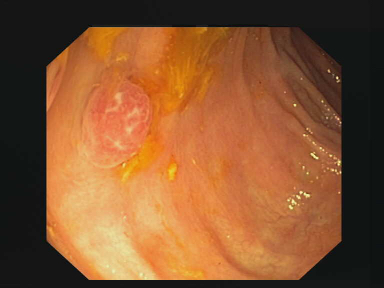polyp: (78, 71, 153, 169)
